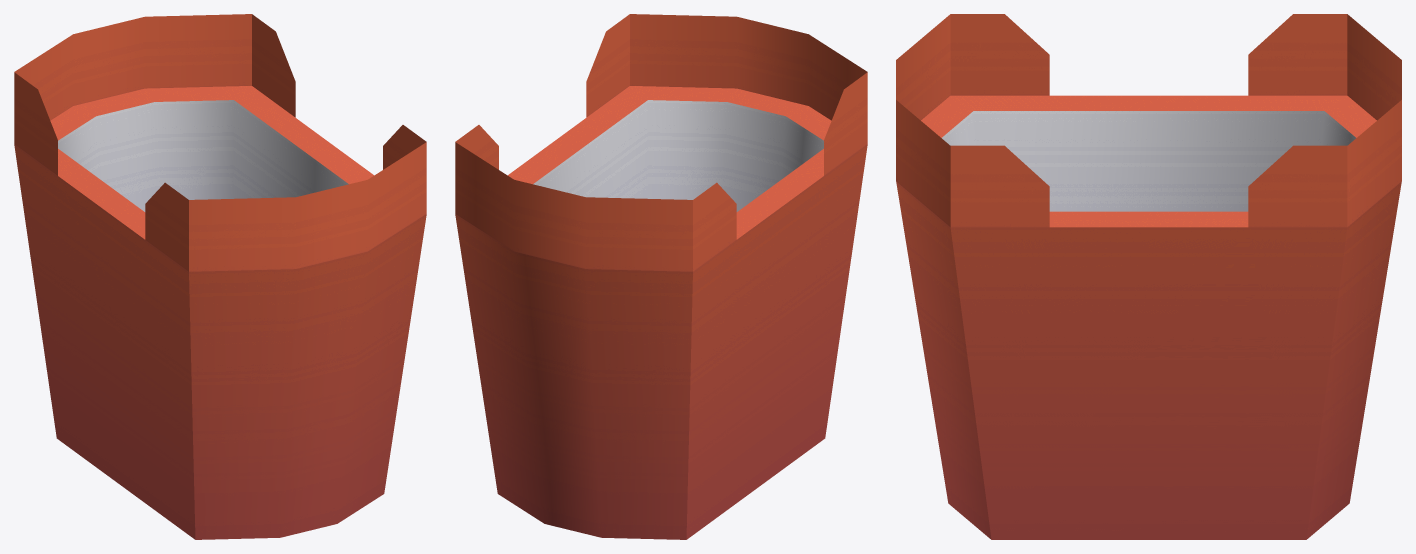
File: fries-empty.glb
3 renders of one model, left to right at view 1: azimuth 30°, elevation 25°; view 2: azimuth 150°, elevation 25°; view 3: azimuth 270°, elevation 25°, orthographic. The views are drawn at different scales.
Parts seen in each view (by area): view 1: fries-empty; view 2: fries-empty; view 3: fries-empty.
Boxes of the visible parts, x1,y1,x2,y2 form: fries-empty: [14, 14, 426, 539]; fries-empty: [455, 14, 867, 539]; fries-empty: [896, 14, 1401, 539].
Size of the model in its own units: 0.1635 by 0.236 by 0.2653.
1 material, 1 textured.
